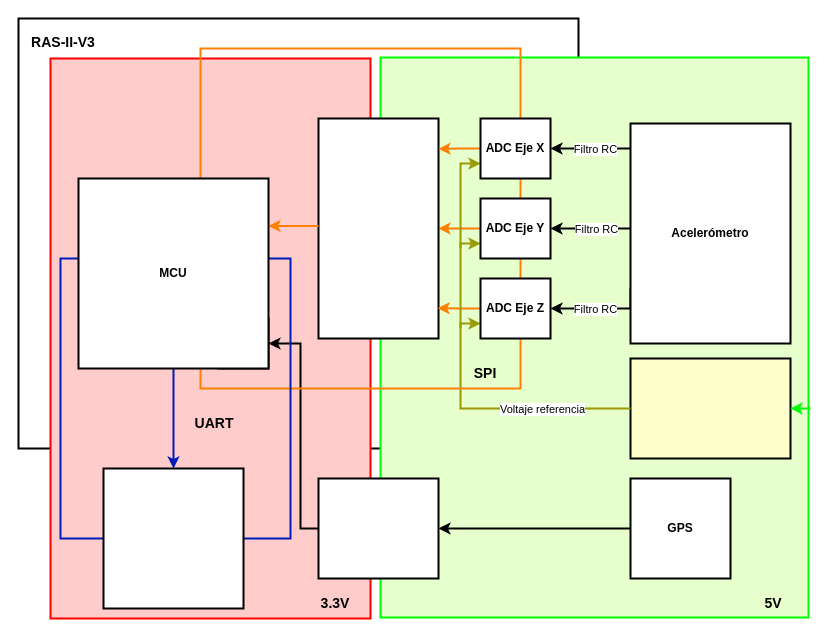
Some shapes in this 836 by 636 pixel diagram are drawn without their labels. Each missing label, with the centre of its shape:
"Cambiador de nivel" belongs at (378,228).
"Convertidor RS232" belongs at (378,528).
"Raspberry PI" belongs at (173,538).
"Regulador de voltaje de precisión" belongs at (710,408).
